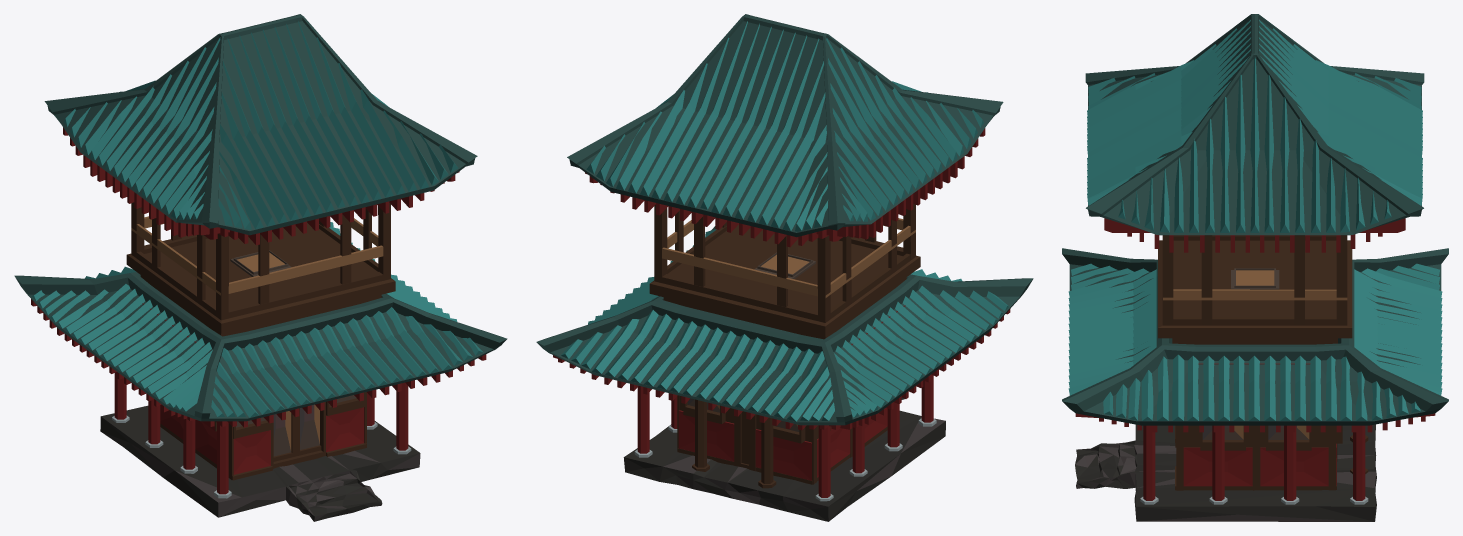
The model's file is Casa_Tempio Cinese.fbx.
The picture shows the model from 3 angles, left to right: view 1: azimuth 30°, elevation 25°; view 2: azimuth 150°, elevation 25°; view 3: azimuth 270°, elevation 25°; orthographic projection. The views are drawn at different scales.
Visible parts, largest first — view 1: Cube.002; view 2: Cube.002; view 3: Cube.002.
Boxes of the visible parts, x1,y1,x2,y2 form: Cube.002: (14,14,507,521); Cube.002: (536,14,1033,521); Cube.002: (1062,14,1448,521).
Size of the model in its own units: 288 by 385 by 307.
